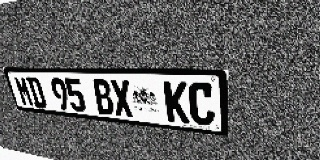5: (64, 78, 87, 112)
9: (49, 77, 72, 111)
B: (91, 79, 115, 116)
C: (188, 82, 215, 126)
D: (25, 77, 48, 108)
K: (163, 81, 189, 124)
M: (13, 76, 35, 107)
X: (109, 79, 134, 118)
